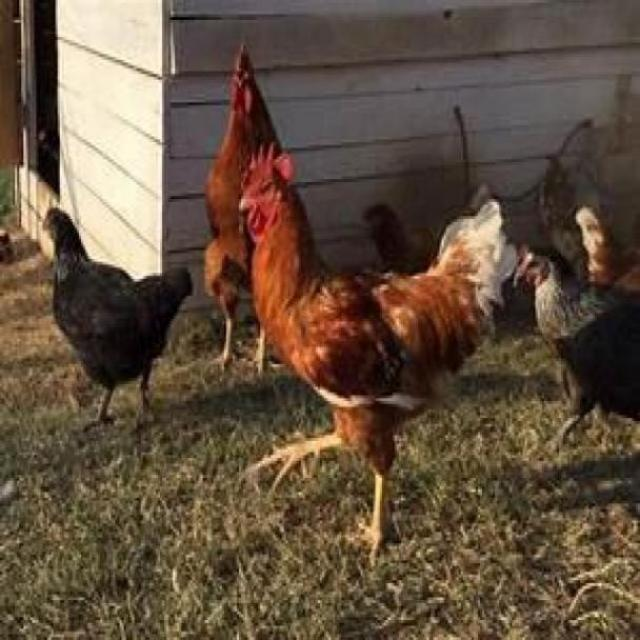Chicken: (241, 142, 516, 566), (43, 205, 194, 429), (203, 37, 284, 375), (513, 238, 640, 449), (363, 182, 493, 273), (576, 205, 640, 290)
